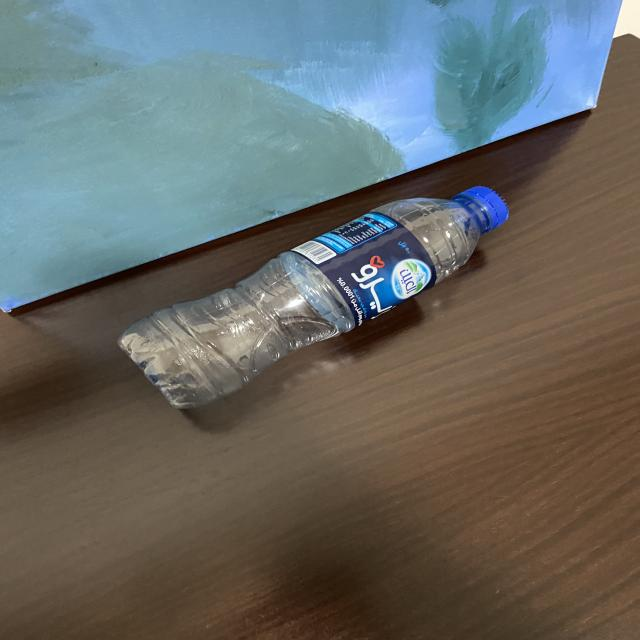bottle: (114, 182, 511, 418)
